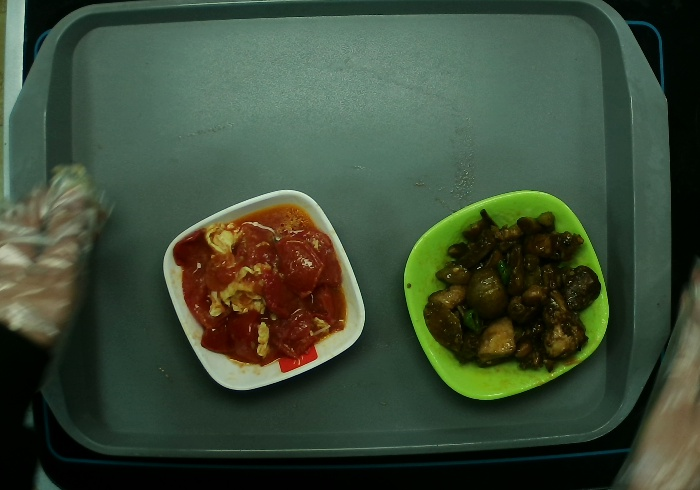SHKJ-Bai_Se_Xiao_Fang_Die: (161, 188, 367, 391)
SHKJ-Lv_Se_Cai_Die: (401, 189, 611, 401)
